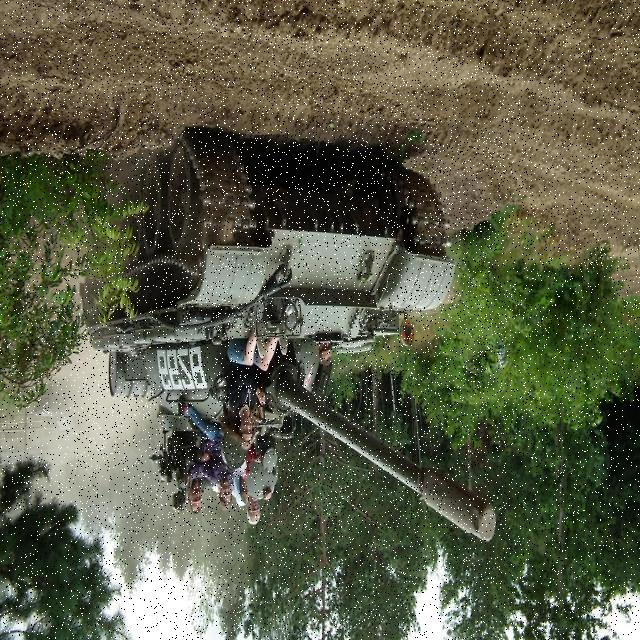MIL_MBT: (79, 137, 506, 533)
